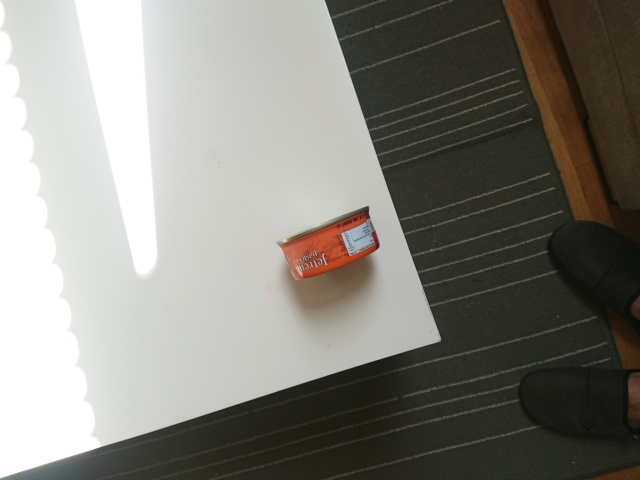Gavrilovic Pork Liver Pate 100g: (273, 203, 382, 282)
